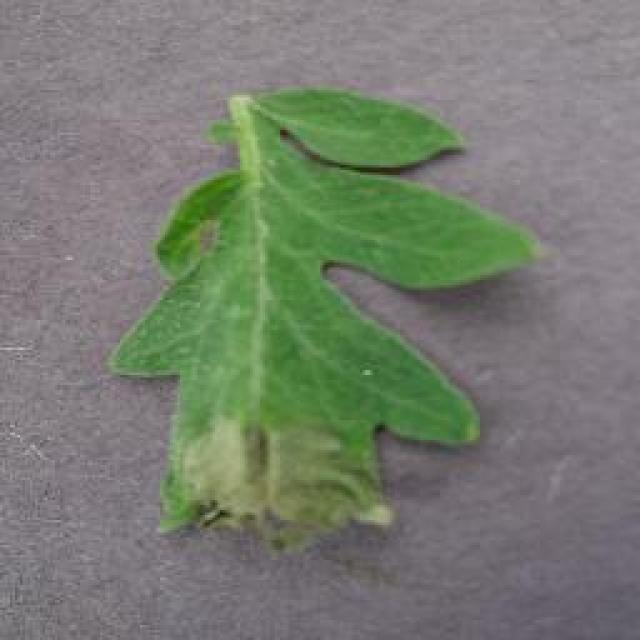Tomato___Late_blight: (106, 88, 552, 557)
